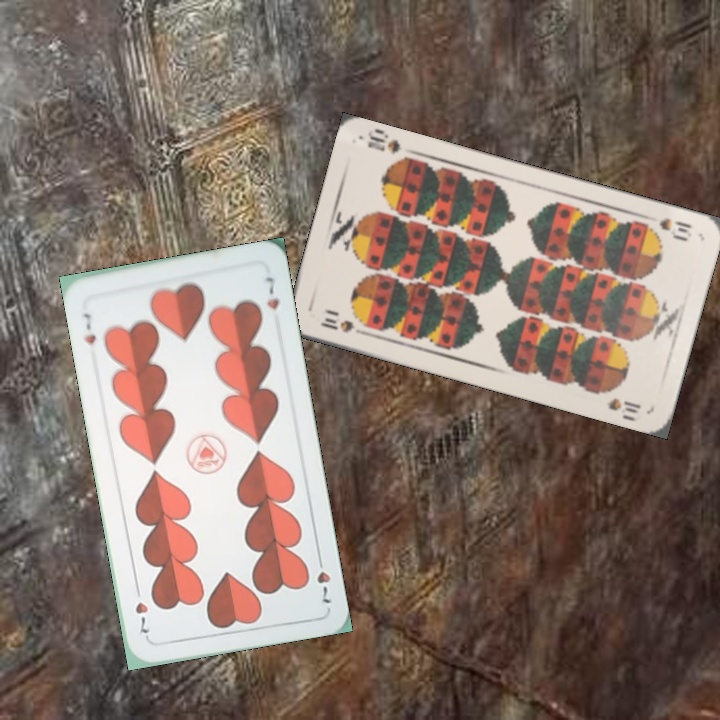H7: (313, 550, 334, 606), (79, 309, 99, 347)
S10: (655, 214, 695, 243), (316, 313, 357, 336)
